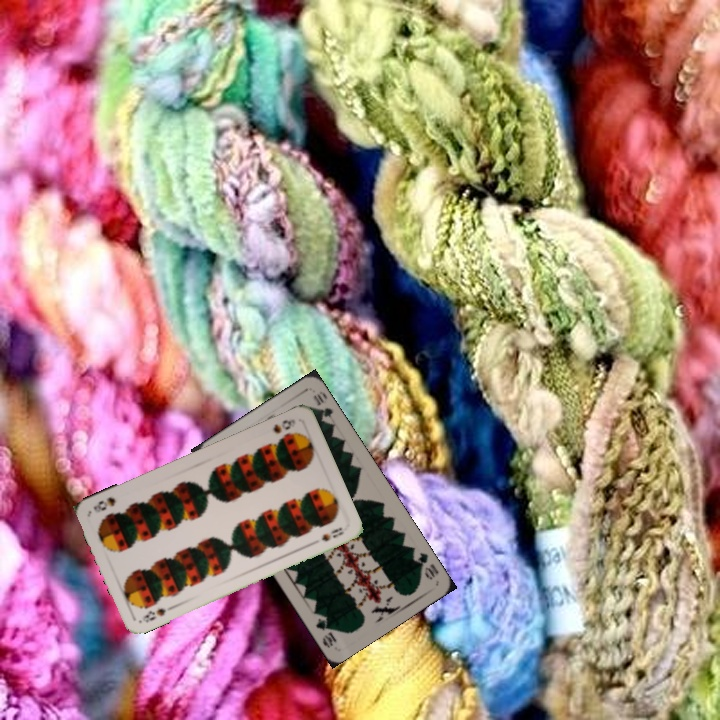G10: (408, 548, 441, 582)
S8: (138, 604, 169, 625), (269, 415, 298, 436)
